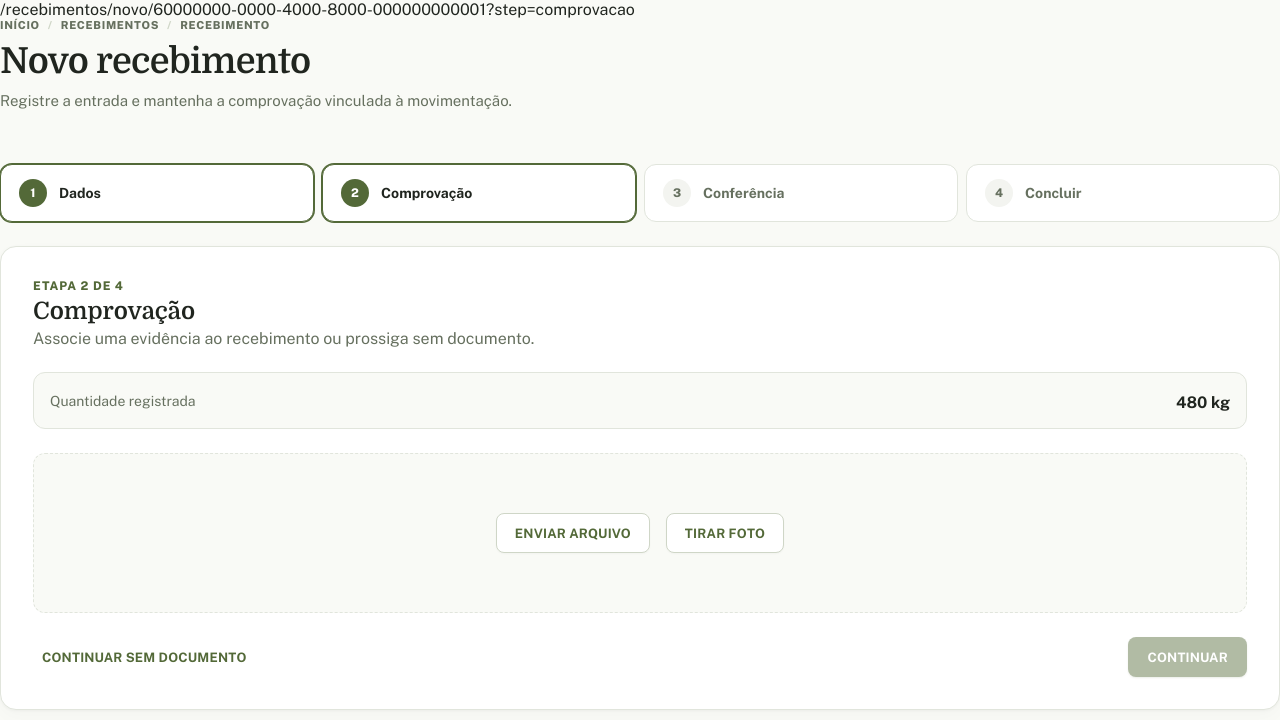
Test: ReceiptFlowPage › allows CONTINUAR SEM DOCUMENTO to conference
Expected: the heading "Comprovação" is shown, [33,297,195,325]
Click the button "CONTINUAR SEM DOCUMENTO". click: (144, 657)
box: [33,637,256,677]
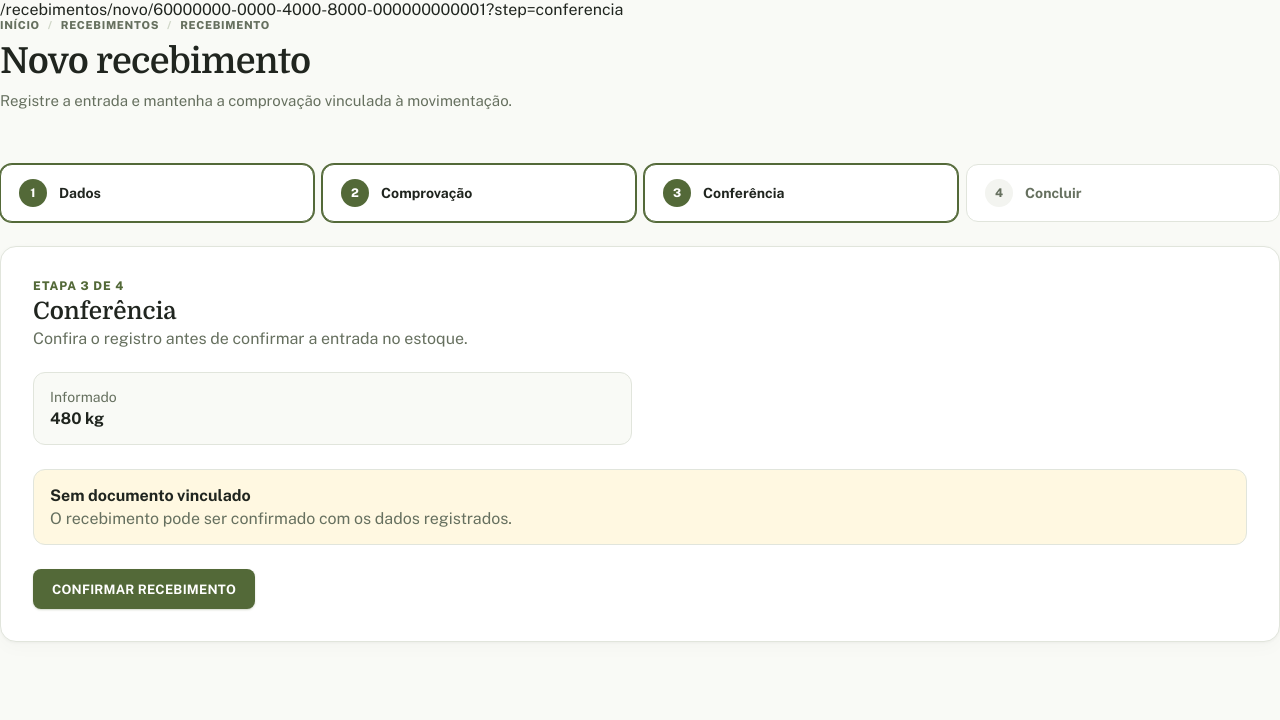
Expected: the text with test id "location" shows "?step=conferencia", [0,0,623,19]
